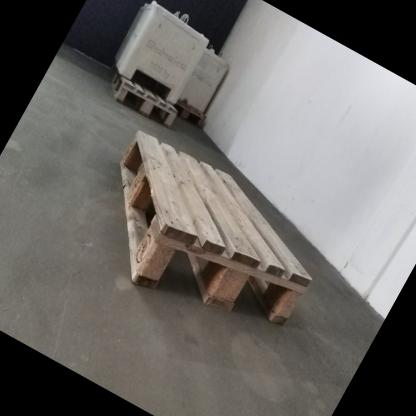BoxFace: (114, 128, 317, 332)
